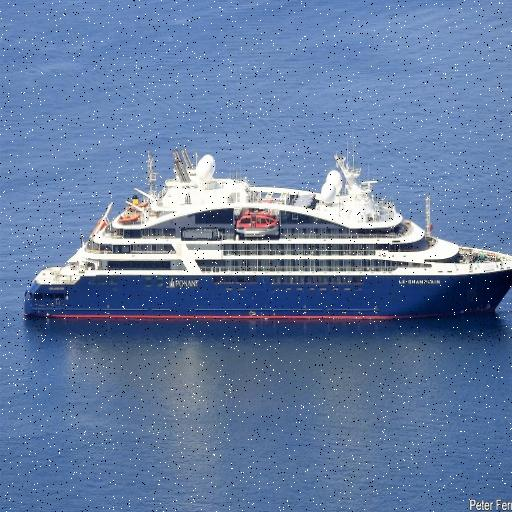cruises: (21, 137, 512, 325)
